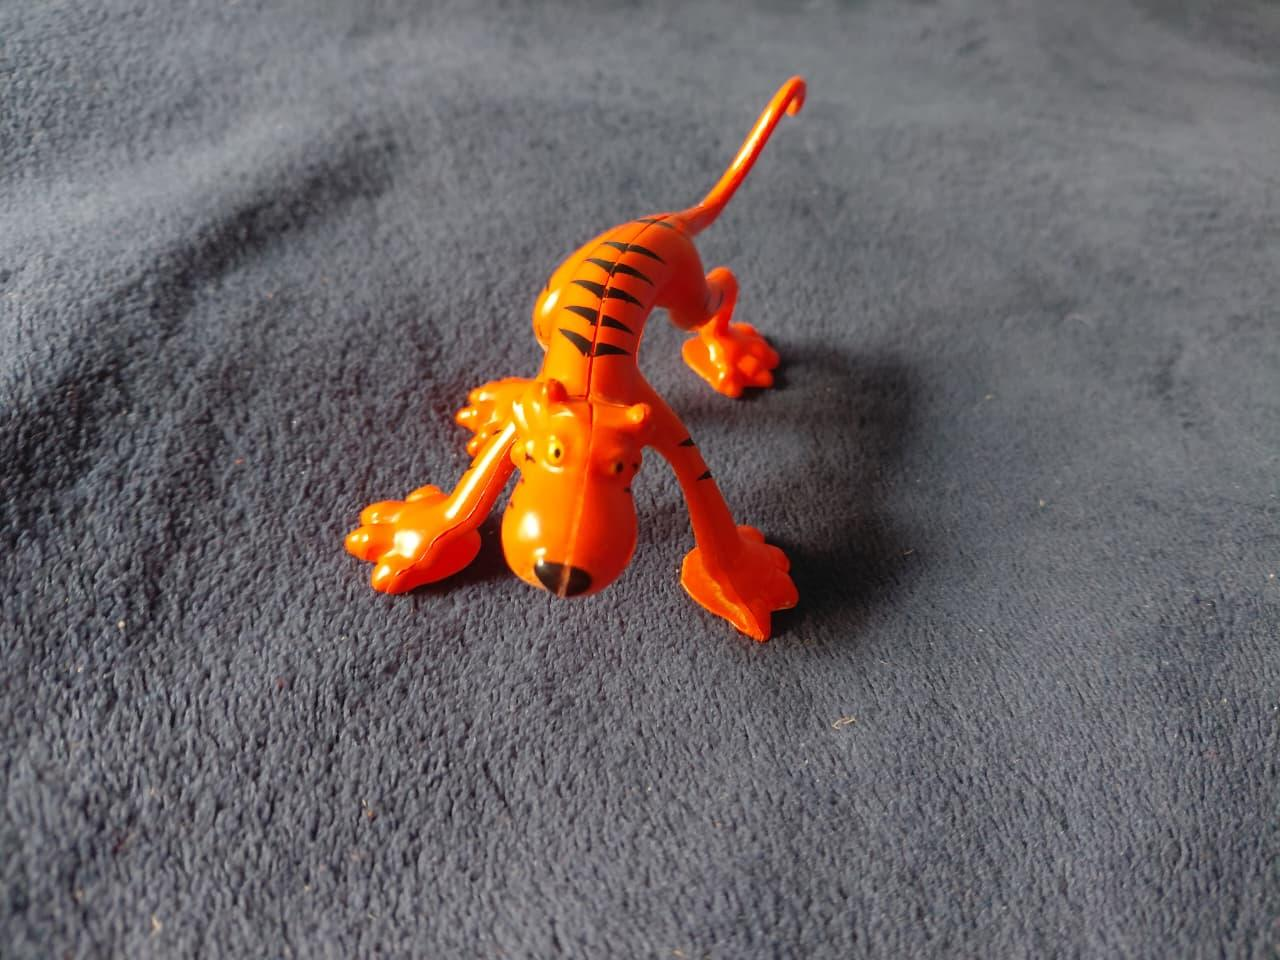tiger: (332, 69, 830, 664)
